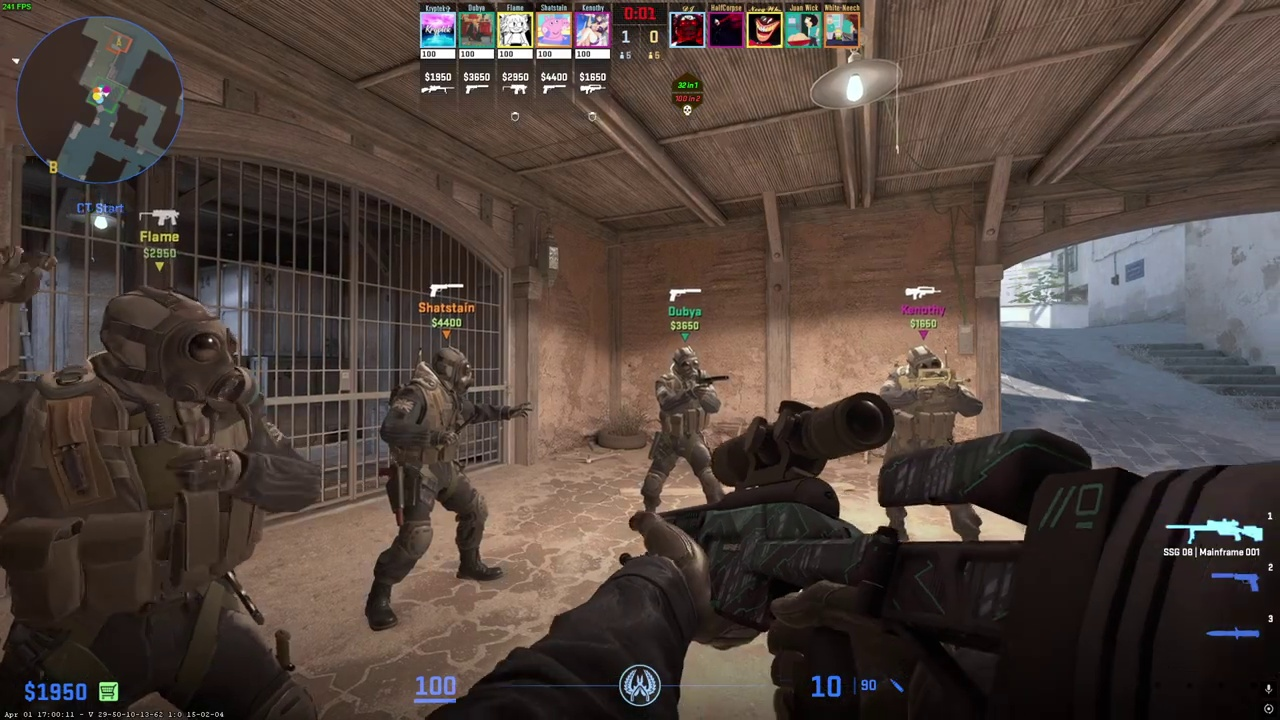CT: (0, 286, 313, 720), (370, 346, 500, 625), (878, 345, 972, 540), (641, 347, 722, 513)
